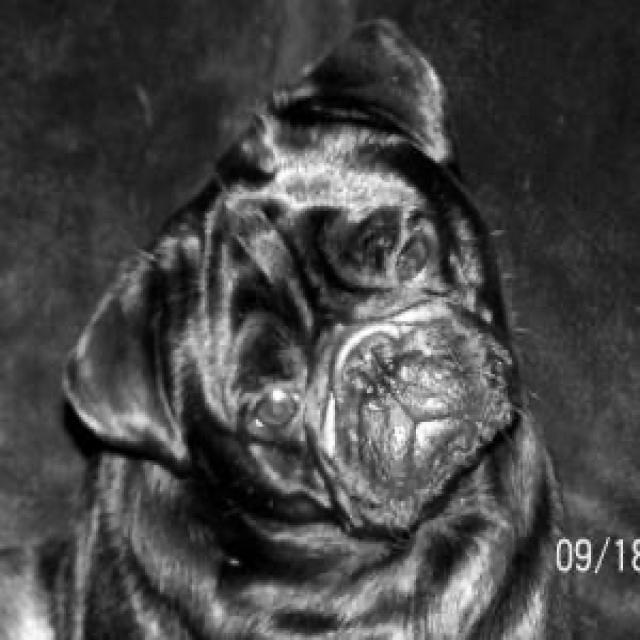dog: (58, 14, 516, 525)
